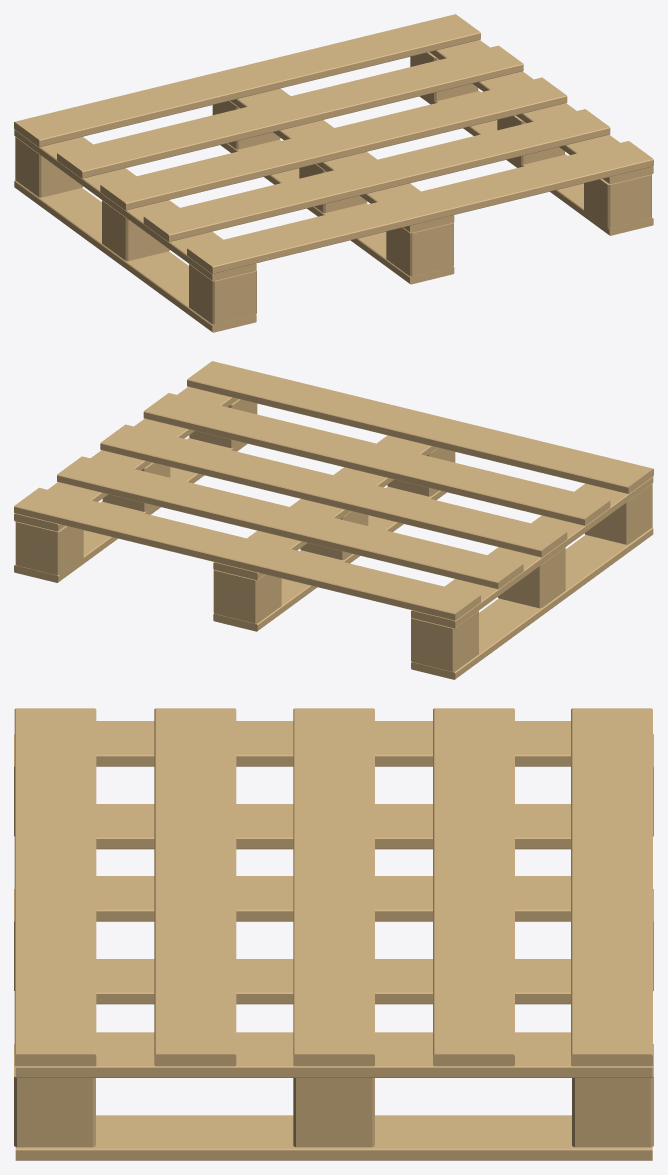
Rendered from Palette.fbx.
The picture shows the model from 3 angles, top to bottom: view 1: azimuth 30°, elevation 25°; view 2: azimuth 150°, elevation 25°; view 3: azimuth 270°, elevation 25°; orthographic projection. The views are drawn at different scales.
Visible parts, largest first — view 1: Palette; view 2: Palette; view 3: Palette.
Boxes of the visible parts, x1,y1,x2,y2 form: Palette: (14,14,653,332); Palette: (14,361,653,679); Palette: (14,708,653,1160).
Bounding box in the file's own units: 180 × 25.89 × 141.
Materials: 1 (1 with a texture image).
